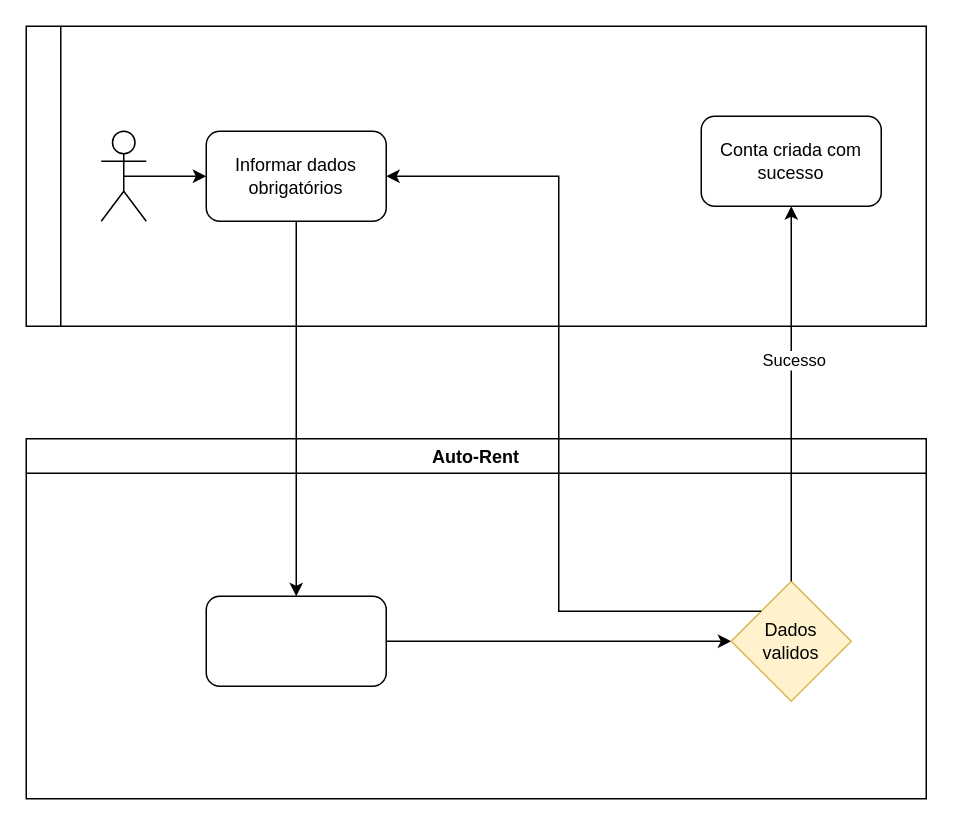
The diagram is 953 pixels wide and 825 high, and some of its shapes have lost their labels. The box of each missing label's shape, as (x1, y1, x2, y2) in pixels:
Checagem dos dados cadastrais: (205, 595, 386, 686)
Locatario: (25, 25, 926, 326)
